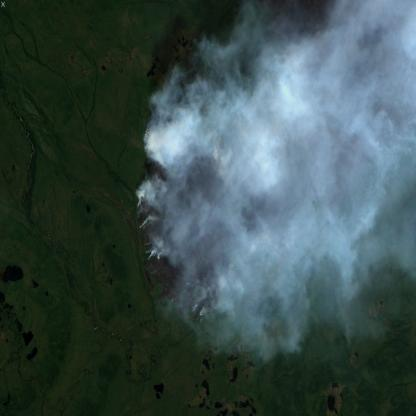fire: (132, 177, 286, 322), (139, 98, 252, 162)
